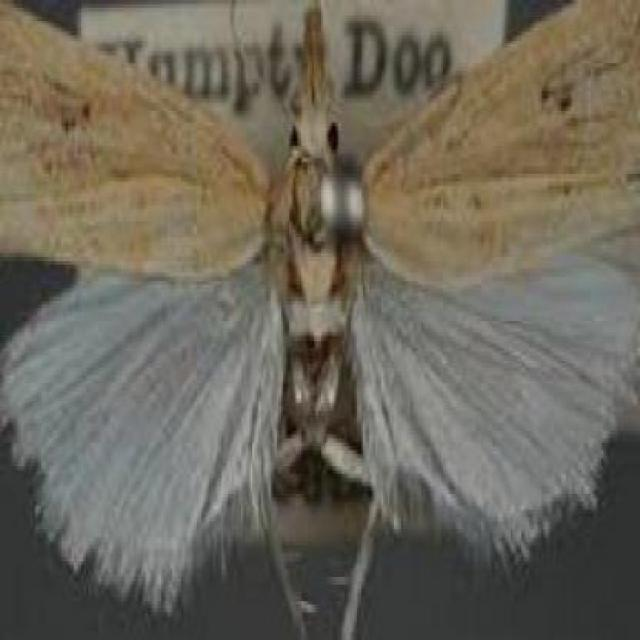stem-borer: (0, 0, 638, 637)
